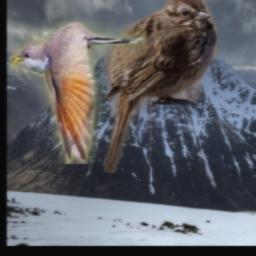Cuckoo: (11, 22, 147, 165)
Sparrow: (104, 0, 218, 173)
